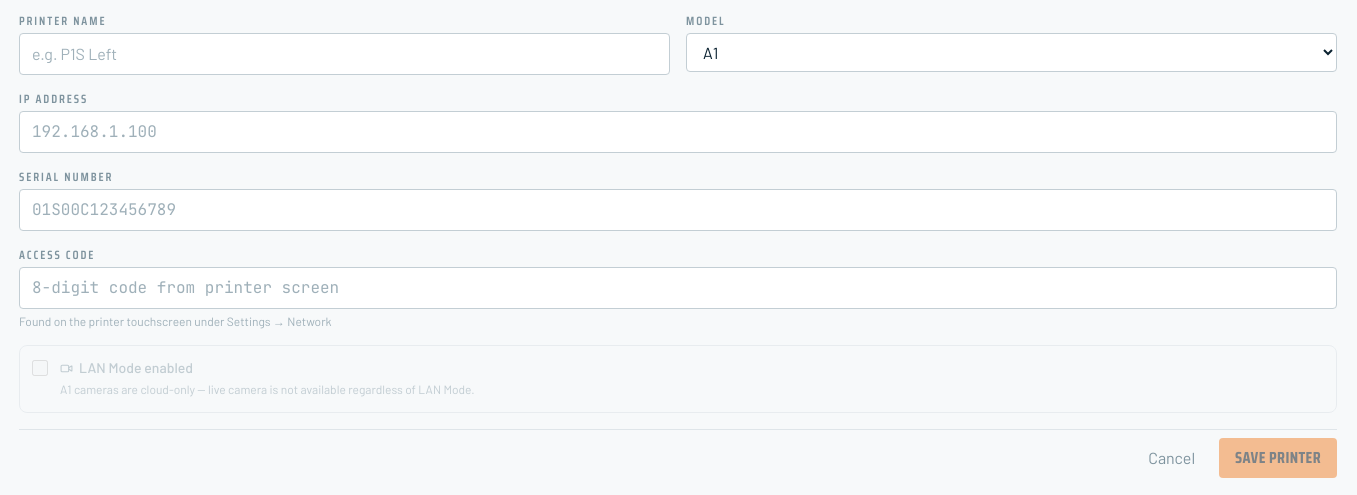
Test: PrinterForm › validation › stays disabled while 192.168.1.100 is blank
Type "Left P1S" into the field with placeholder "e.g. P1S Left" at (344, 54), box [19,33,670,75]
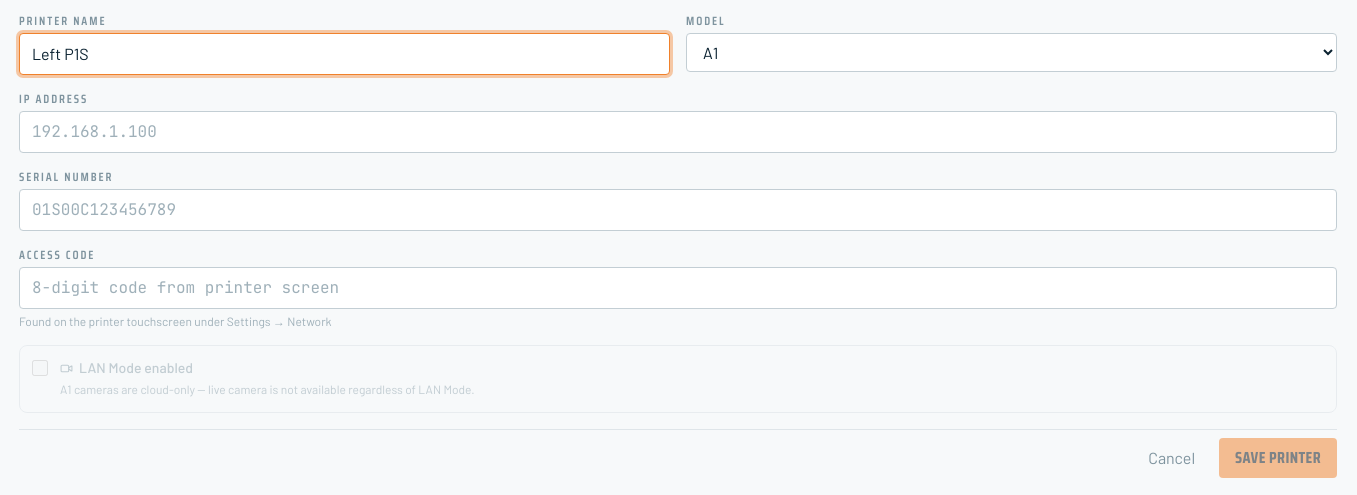
Type "192.168.1.50" into the field with placeholder "192.168.1.100" at (678, 132), box [19,111,1337,153]
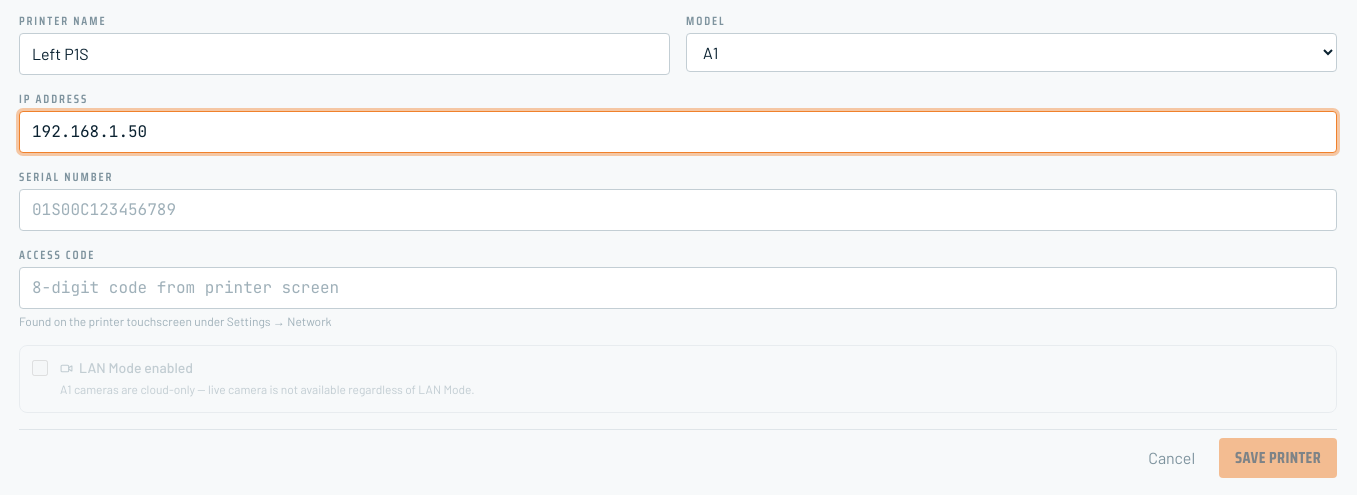
Type "abc123" into the field with placeholder "01S00C123456789" at (678, 210), box [19,189,1337,231]
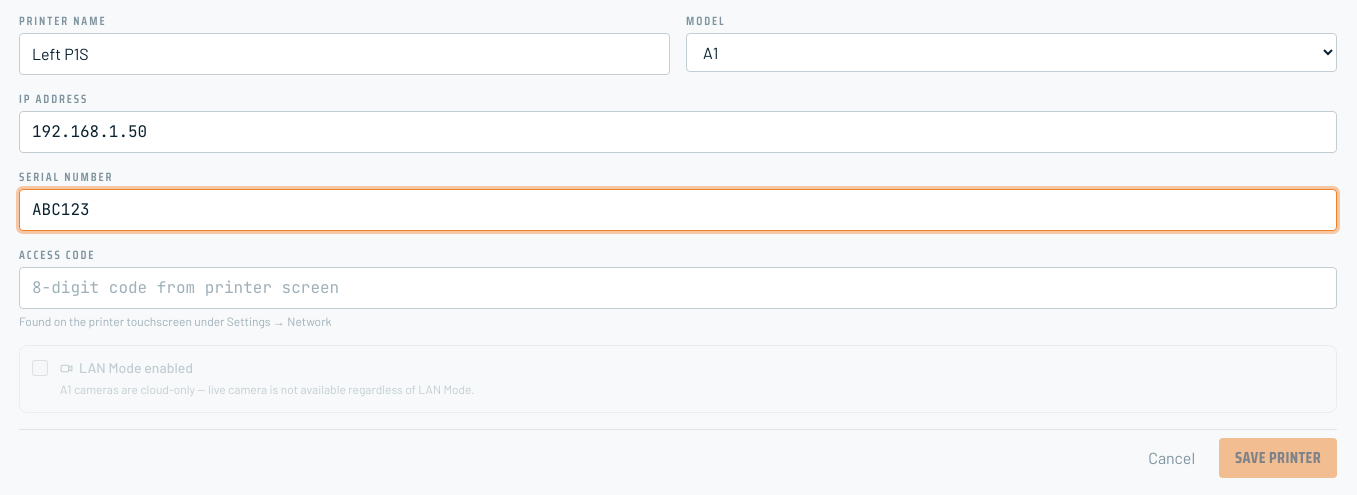
Type "12345678" into the field with placeholder "8-digit code from printer screen" at (678, 288), box [19,267,1337,309]
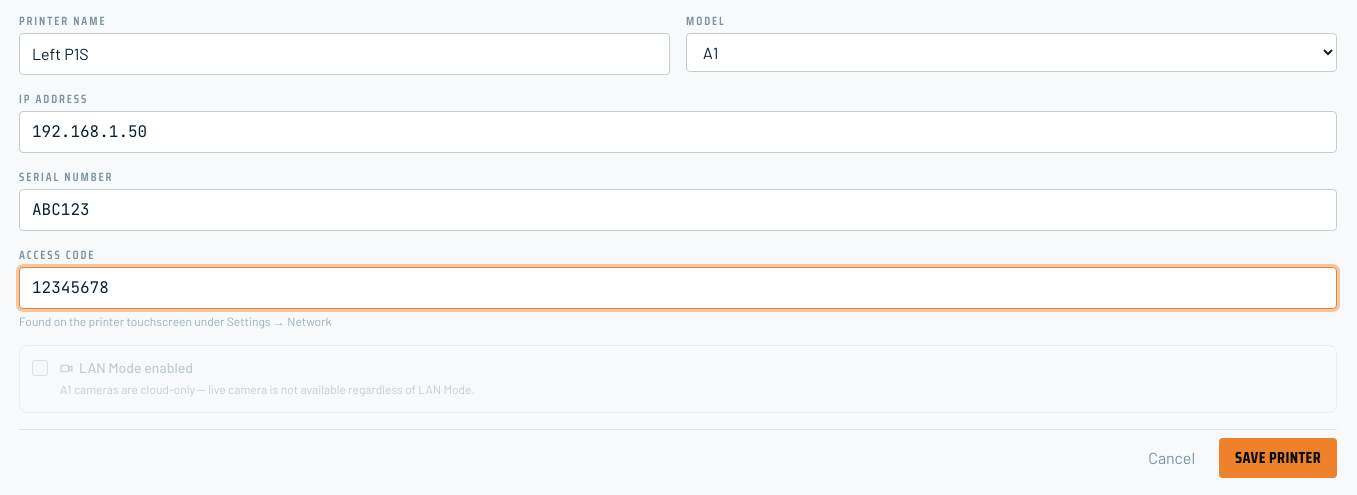
Clear the field with placeholder "192.168.1.100" below "IP address" at (678, 132), box [19,111,1337,153]
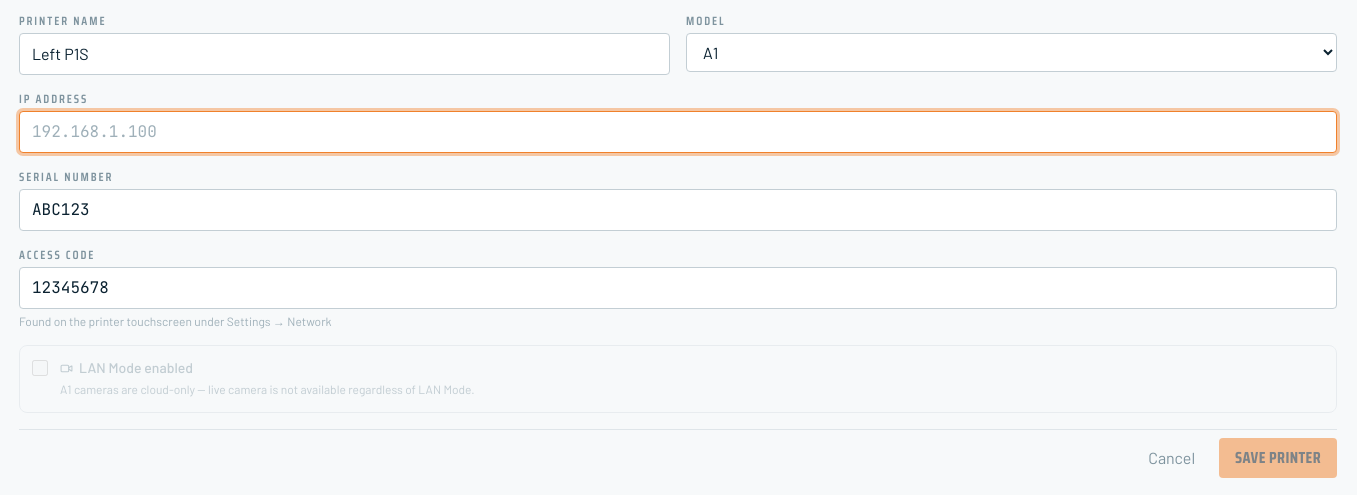
expect the button "Save printer" is disabled: met, box [1219,438,1337,478]
